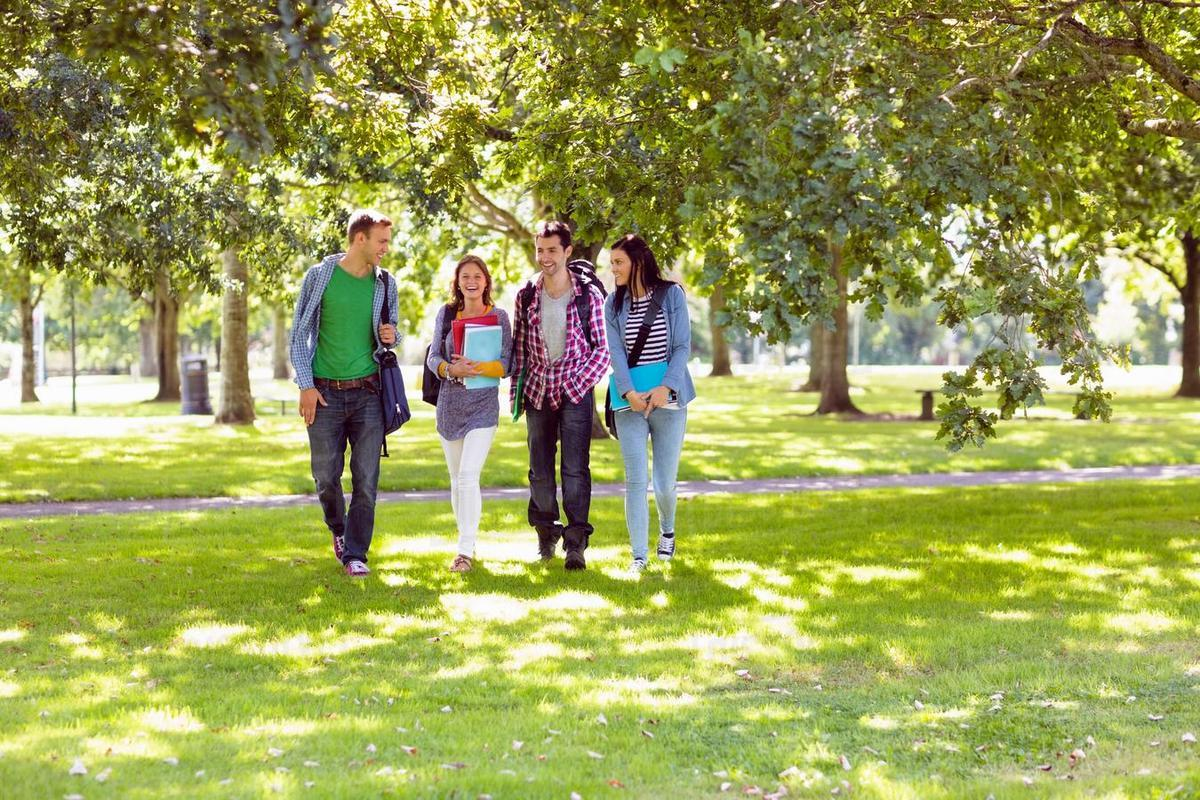Person: (273, 191, 413, 583), (505, 217, 611, 576), (596, 236, 709, 559), (420, 242, 511, 587)
